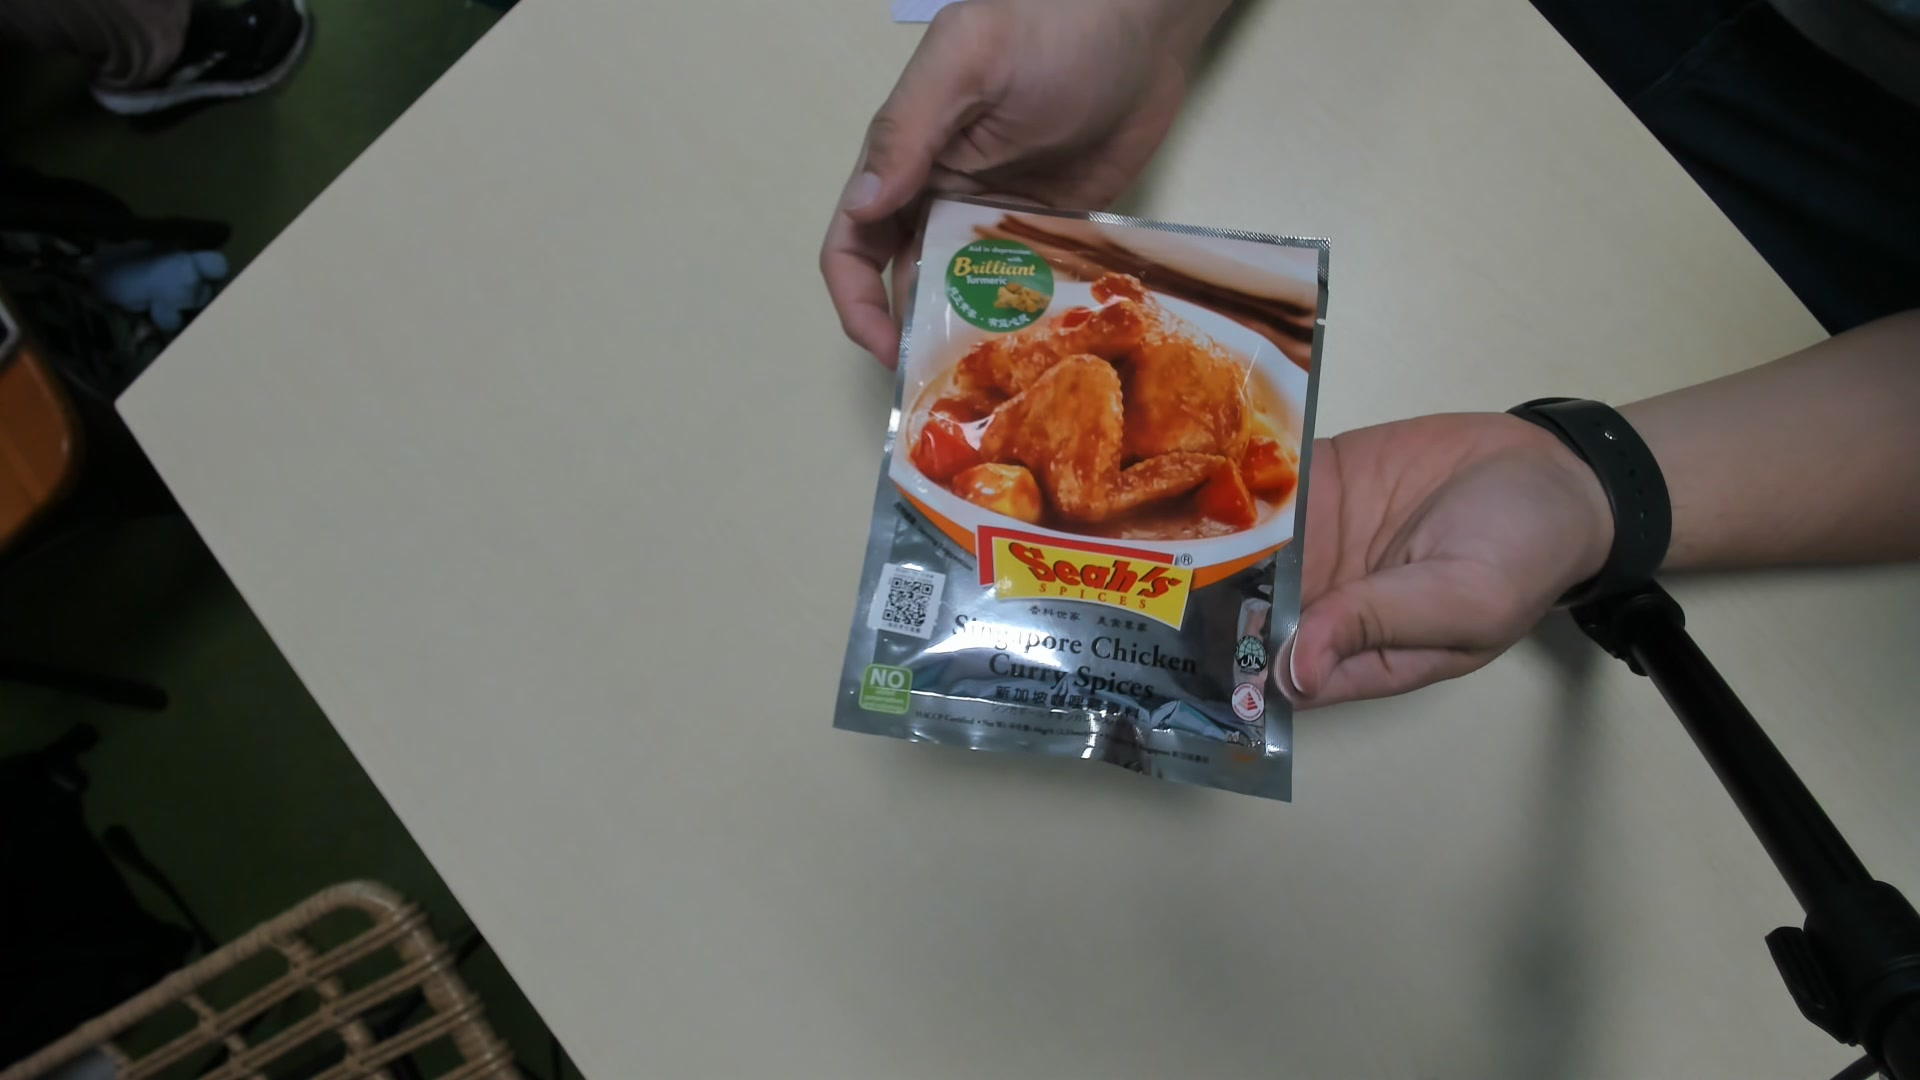CurryPastePowderSauce_0-99g_Halal_Healthy: (858, 200, 1325, 796)
